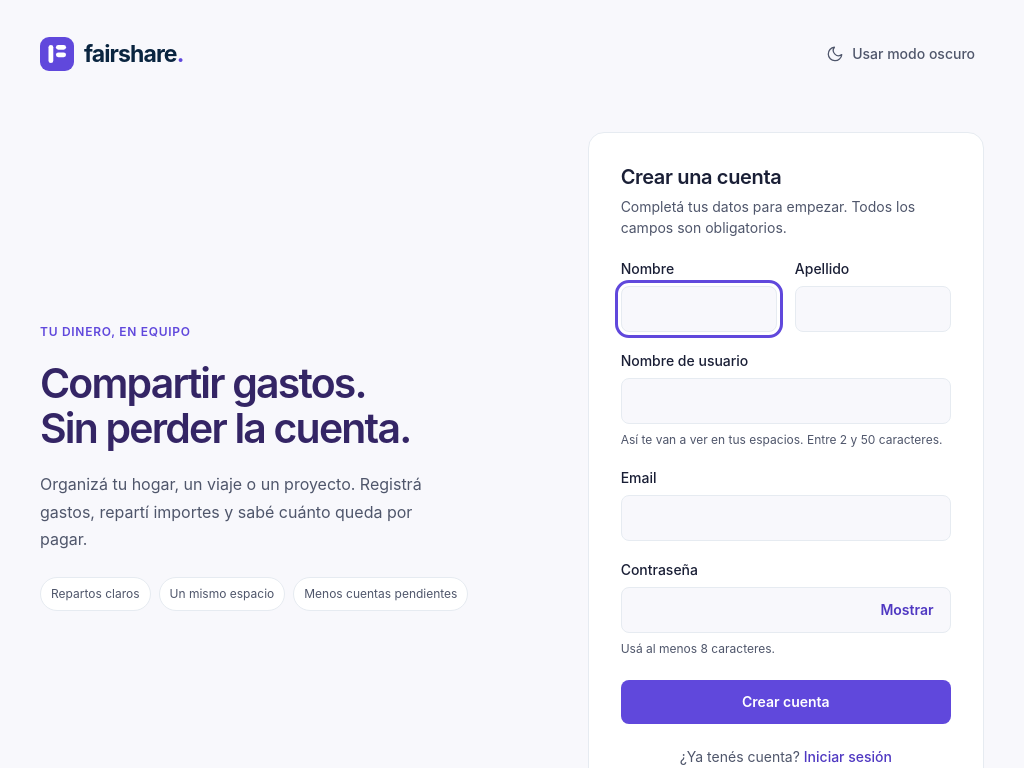
registration › marks a duplicated email, keeps the data and offers to log in
Type "Ana" into the field named "Nombre (" at {"x": 699, "y": 309}, box 621,286 -> 777,332
Type "Pérez" into the field labelled "Apellido" at {"x": 873, "y": 309}, box 795,286 -> 951,332
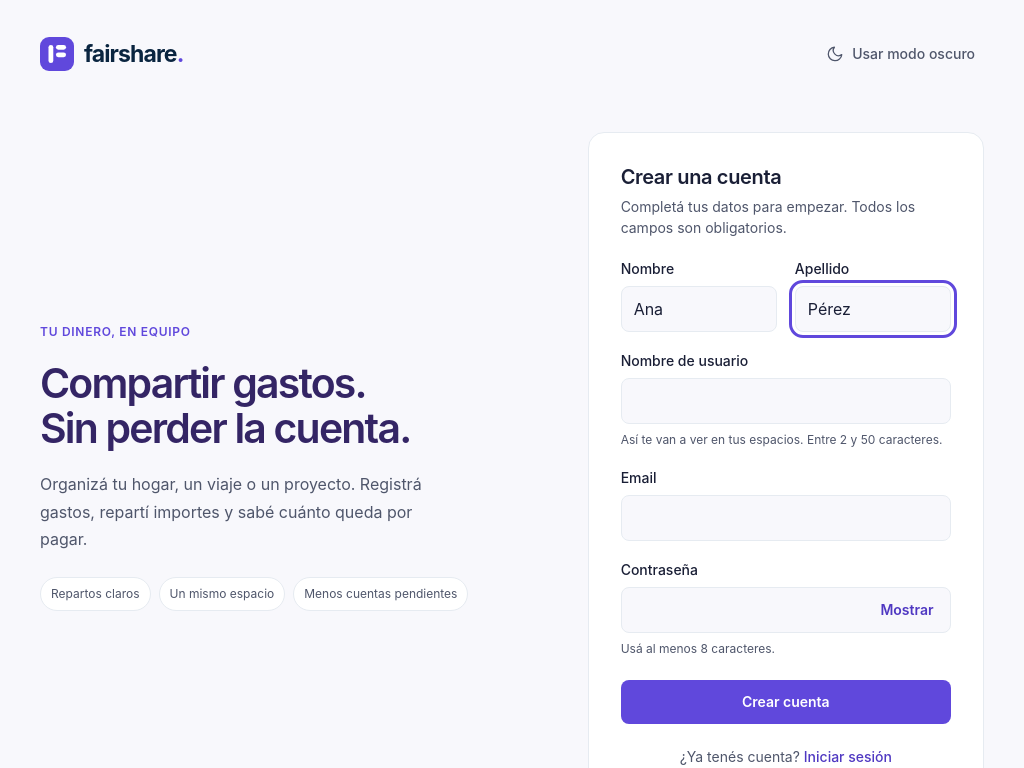
Type "anap" into the field labelled "Nombre de usuario" at {"x": 786, "y": 401}, box 621,378 -> 951,424
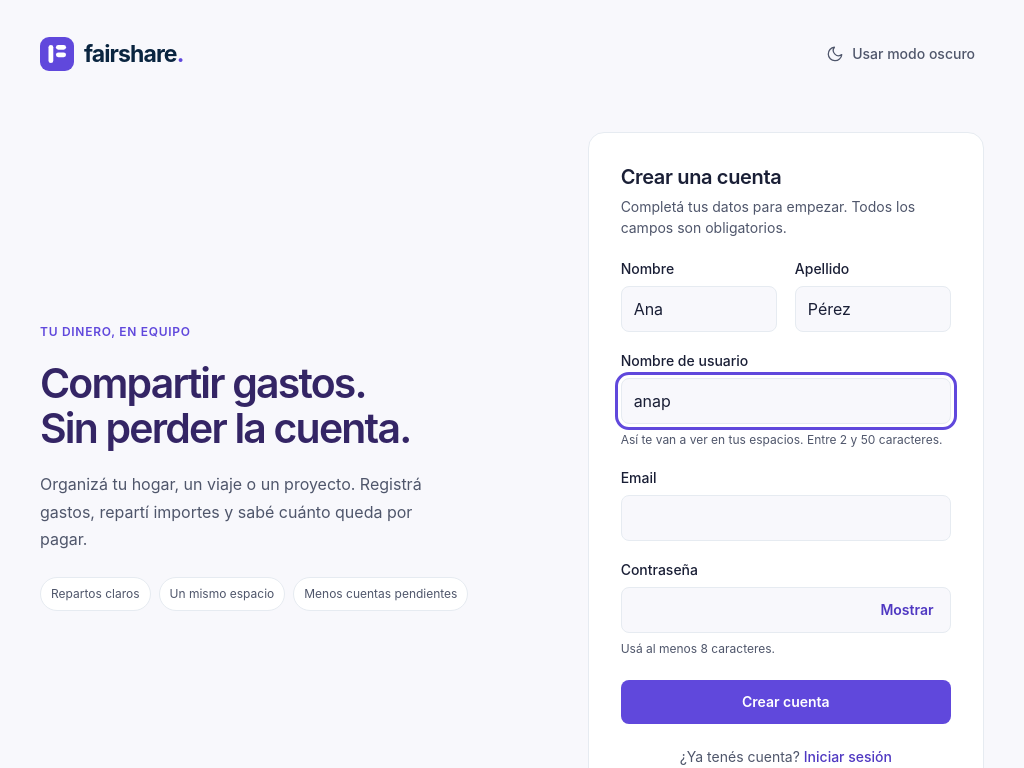
Type "ana@example.test" into the field labelled "Email" at {"x": 786, "y": 518}, box 621,495 -> 951,541
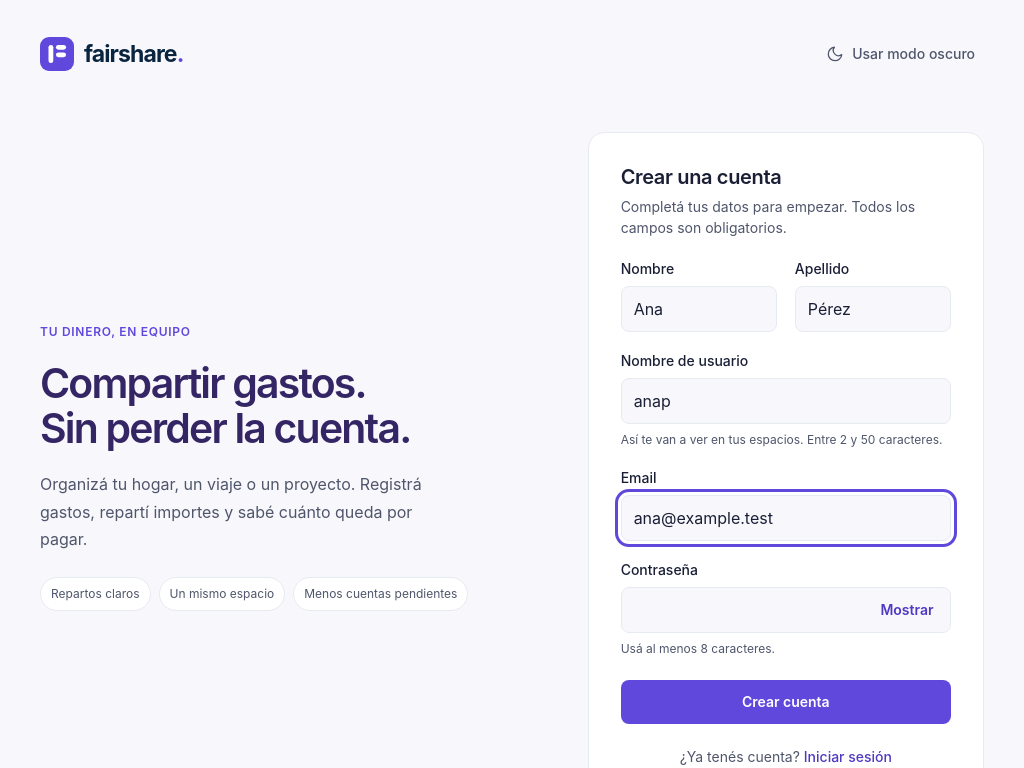
Type "password-test" into the password field labelled "Contraseña" at {"x": 786, "y": 610}, box 621,587 -> 951,633
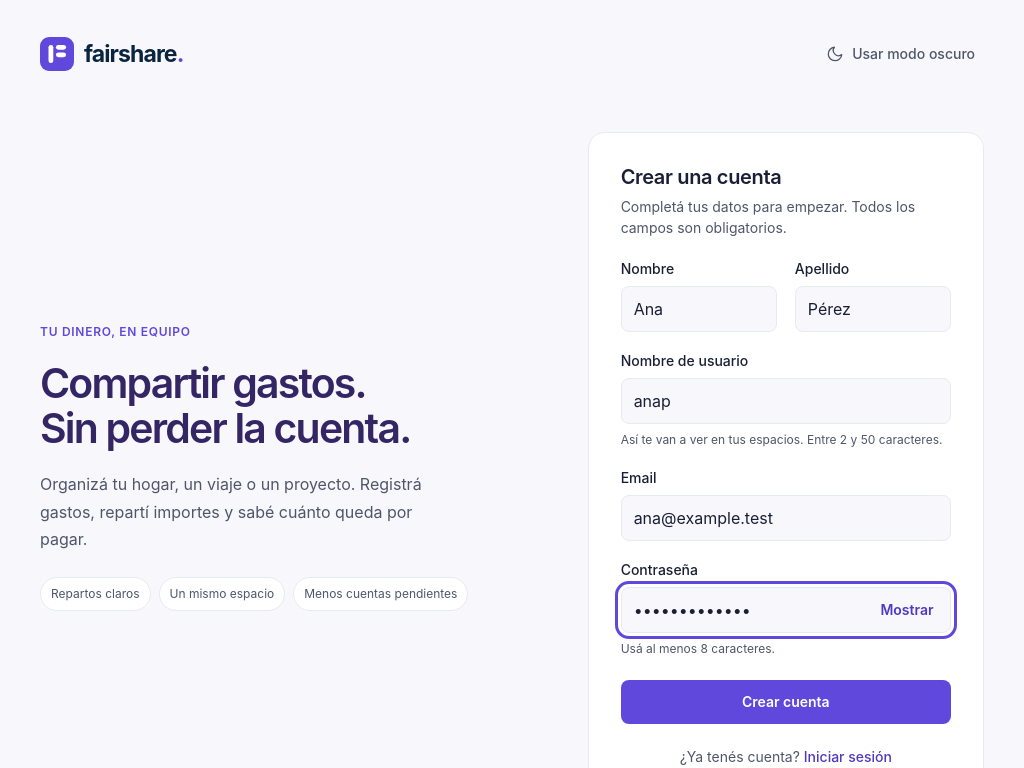
Click the button "Crear cuenta" at {"x": 786, "y": 702}, box 621,680 -> 951,724
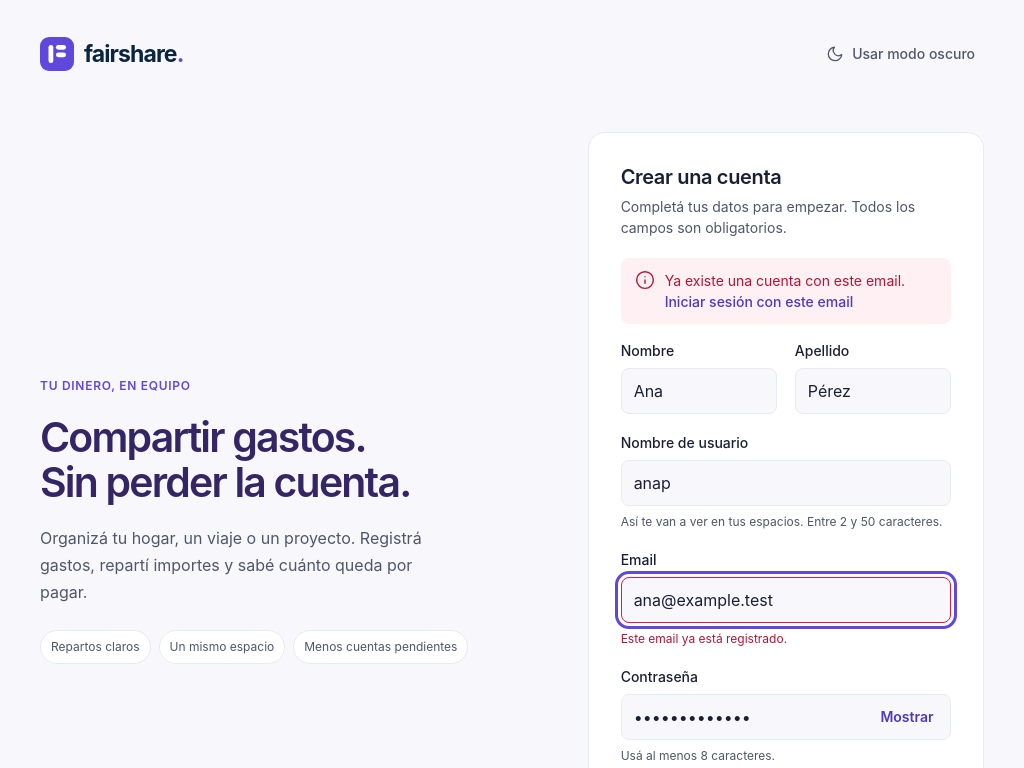
Expected: the message shows "Ya existe una cuenta con este email.", 665,272 -> 905,289
Click the link "Iniciar sesión con este email" at {"x": 759, "y": 302}, box 665,293 -> 853,310
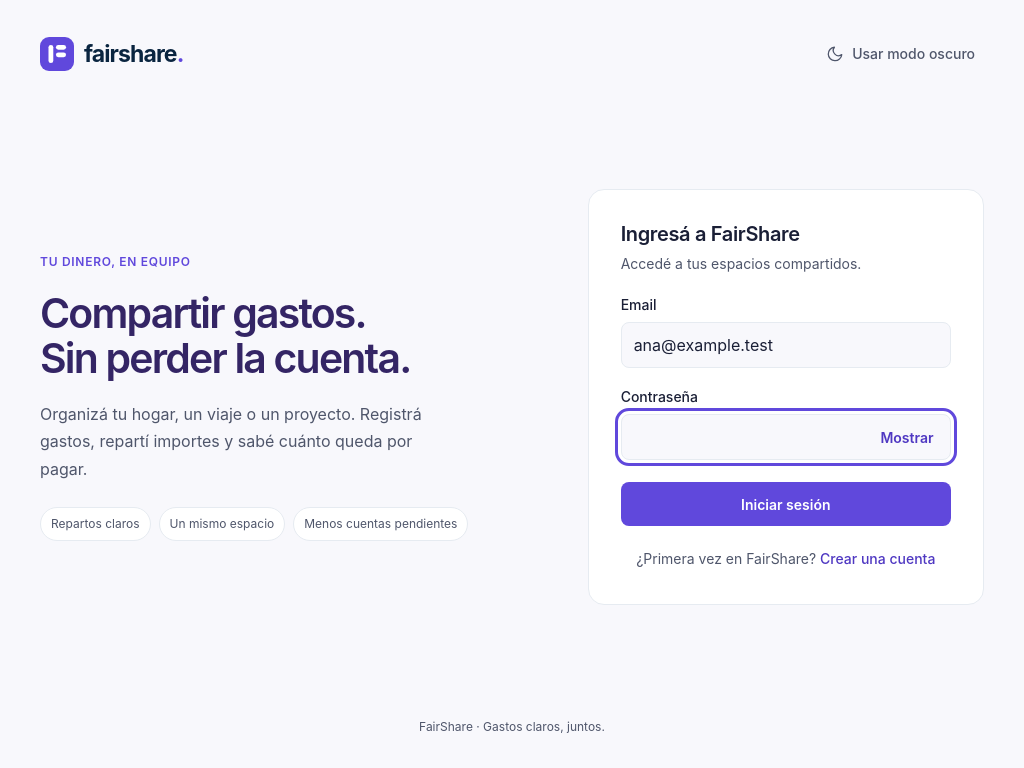
Expected: the field labelled "Email" holds "ana@example.test", 621,322 -> 951,368
